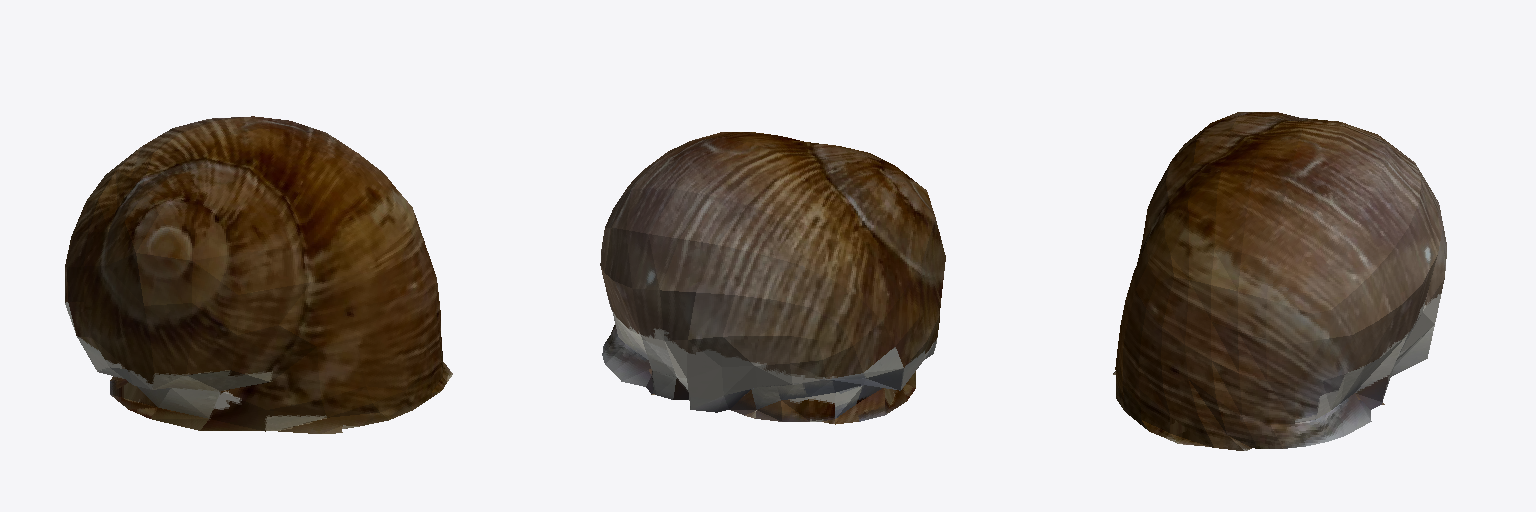
3 renders of one model, left to right at view 1: azimuth 30°, elevation 25°; view 2: azimuth 150°, elevation 25°; view 3: azimuth 270°, elevation 25°, orthographic.
Visible parts, largest first — view 1: snek_lowpoly_model.004; view 2: snek_lowpoly_model.004; view 3: snek_lowpoly_model.004.
Part boxes in pixels (x1,y1,x2,y2): snek_lowpoly_model.004: (65, 116, 452, 433); snek_lowpoly_model.004: (600, 132, 945, 424); snek_lowpoly_model.004: (1113, 112, 1446, 450).
Bounding box in the file's own units: 1.53 × 1.06 × 1.37.
Materials: 1 (1 with a texture image).